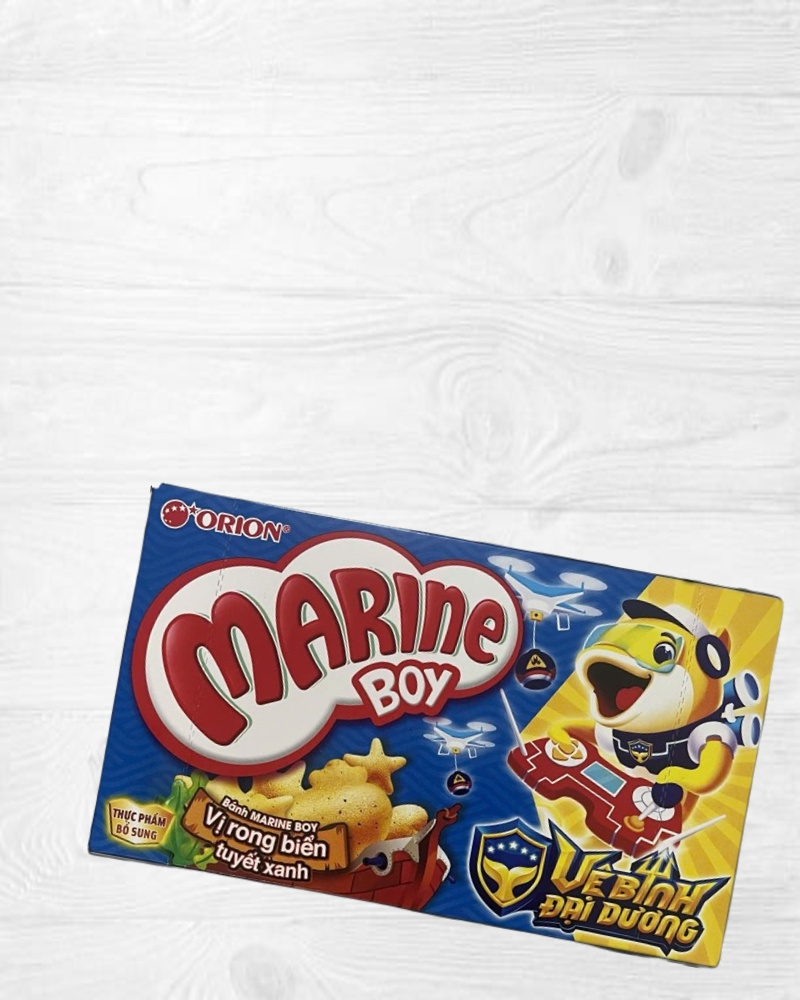Marine: (88, 482, 788, 971)
